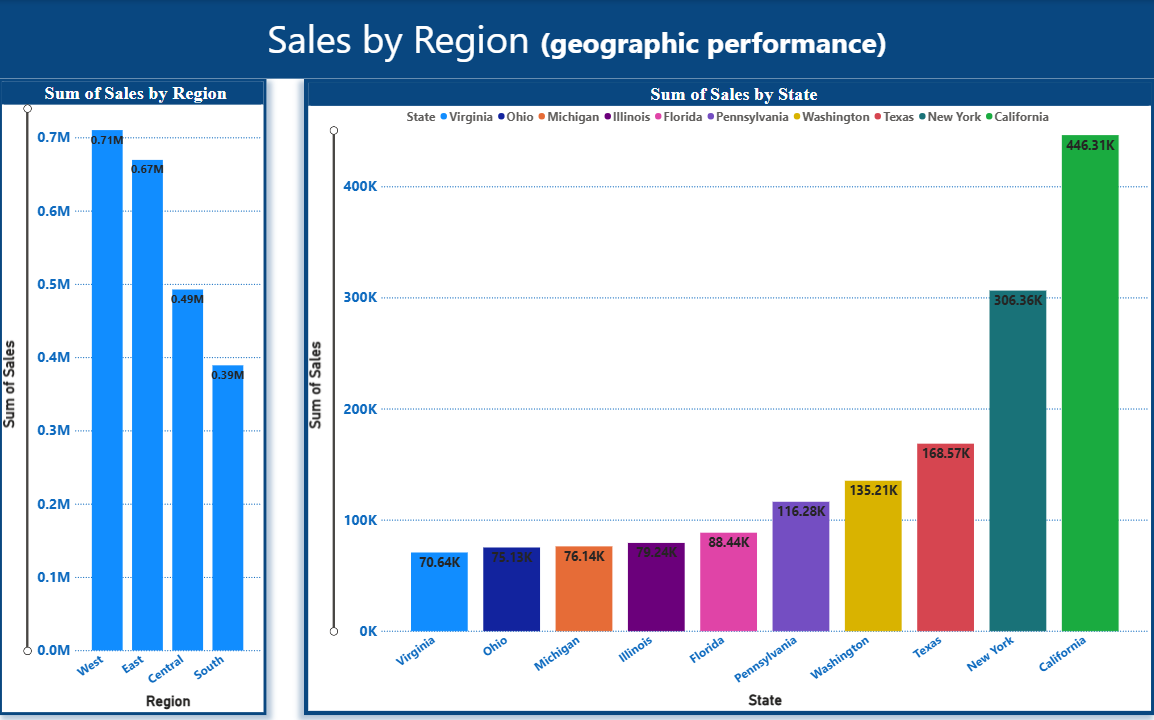

Layout of this report page (visuals, bound fields, positions):
{"tool":"powerbi","page":{"name":"Geographic ","canvas":[2200,1400],"ordinal":4},"visuals":[{"type":"textbox","box":[0,0,2199.4,149.8],"z":0},{"type":"clusteredColumnChart","fields":{"Category":["train (Cleaned).Region"],"Y":["Sum(train (Cleaned).Sales)"]},"box":[0,149.8,508.8,1210.3],"z":1000},{"type":"lineStackedColumnComboChart","title":"Sum of Sales by State ","fields":{"Category":["train (Cleaned).State"],"Y":["Sum(train (Cleaned).Sales)"],"Series":["train (Cleaned).State"]},"box":[580.2,149.8,1619.2,1210.3],"z":2000}]}

Visuals, with their boxes in screenshot pixels (x1, y1, x2, y2), scaled from the page's 2200x1400 canvas onto the 1154x720 screenshot:
textbox: bbox=(0, 0, 1153, 77)
clusteredColumnChart - train (Cleaned).Region x Sum(train (Cleaned).Sales): bbox=(0, 77, 267, 699)
"Sum of Sales by State " lineStackedColumnComboChart: bbox=(304, 77, 1153, 699)
